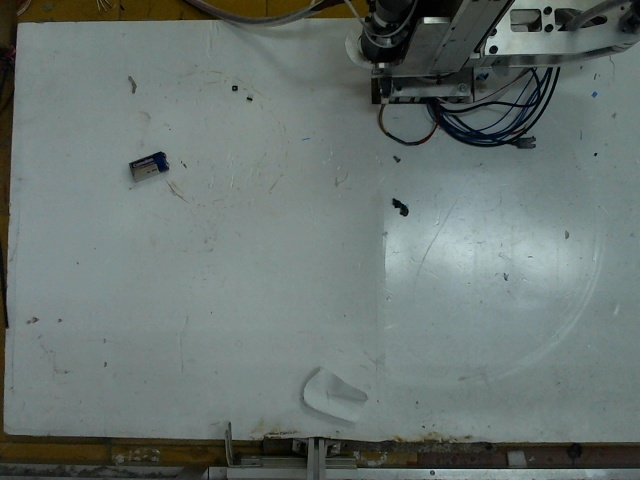battery: (123, 150, 176, 181)
